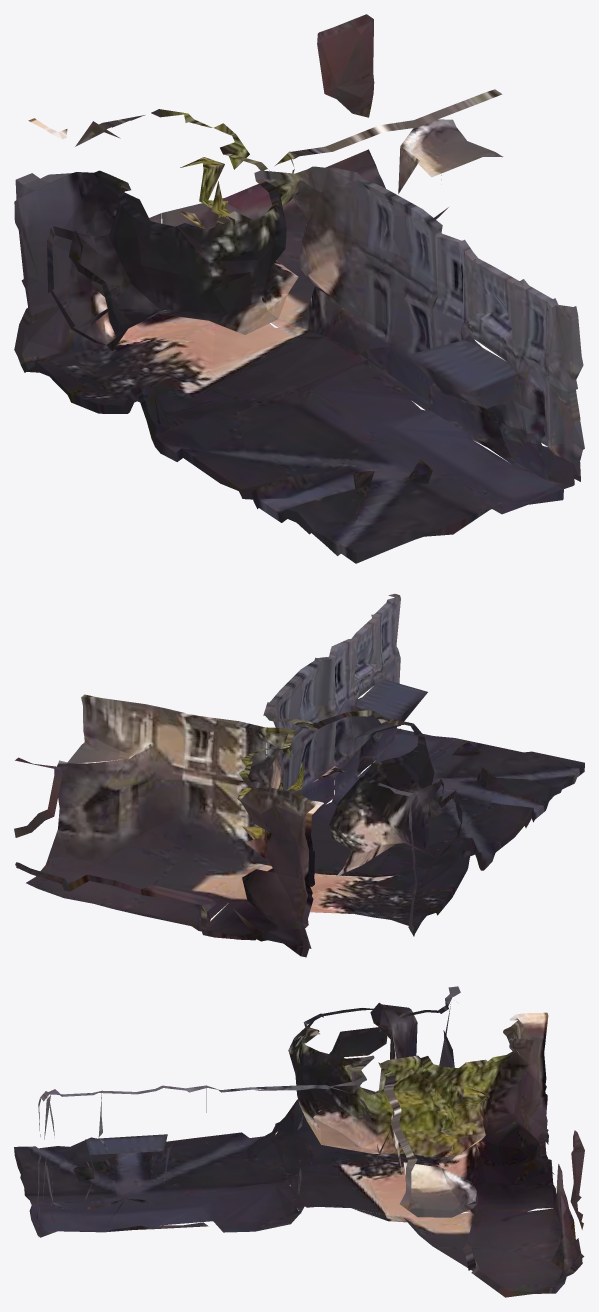
The picture shows the model from 3 angles, top to bottom: view 1: azimuth 30°, elevation 25°; view 2: azimuth 150°, elevation 25°; view 3: azimuth 270°, elevation 25°; orthographic projection. The views are drawn at different scales.
Parts seen in each view (by area): view 1: Mesh_0; view 2: Mesh_0; view 3: Mesh_0.
Part boxes in pixels (box(x1,y1,x2,y2)): Mesh_0: box(14, 14, 584, 563); Mesh_0: box(14, 593, 584, 957); Mesh_0: box(14, 986, 584, 1297).
Bounding box in the file's own units: 29.87 × 12.25 × 41.47.
1 material, 1 textured.
